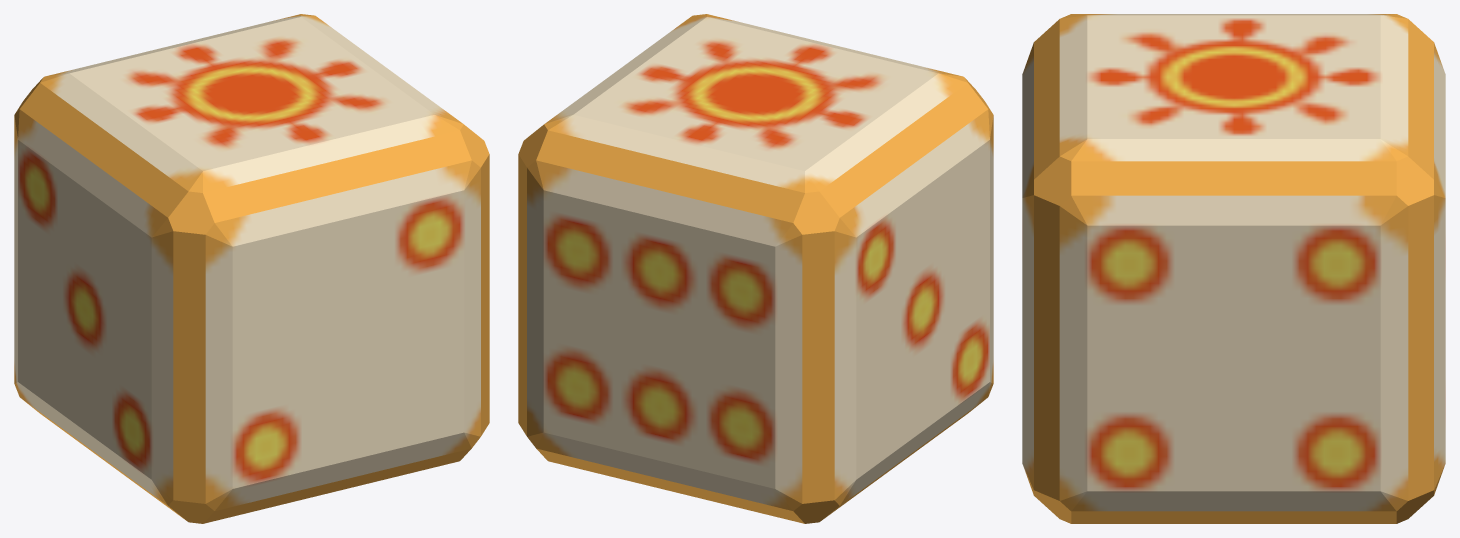
Rendered from dice.obj.
The picture shows the model from 3 angles, left to right: view 1: azimuth 30°, elevation 25°; view 2: azimuth 150°, elevation 25°; view 3: azimuth 270°, elevation 25°; orthographic projection. The views are drawn at different scales.
Visible parts, largest first — view 1: dice01; view 2: dice01; view 3: dice01.
Boxes of the visible parts, left/top/right/bottom form: dice01: left=14, top=14, right=489, bottom=523; dice01: left=518, top=14, right=993, bottom=523; dice01: left=1022, top=14, right=1445, bottom=523.
Bounding box in the file's own units: 1.05 × 1.05 × 1.05.
Materials: 1 (1 with a texture image).
